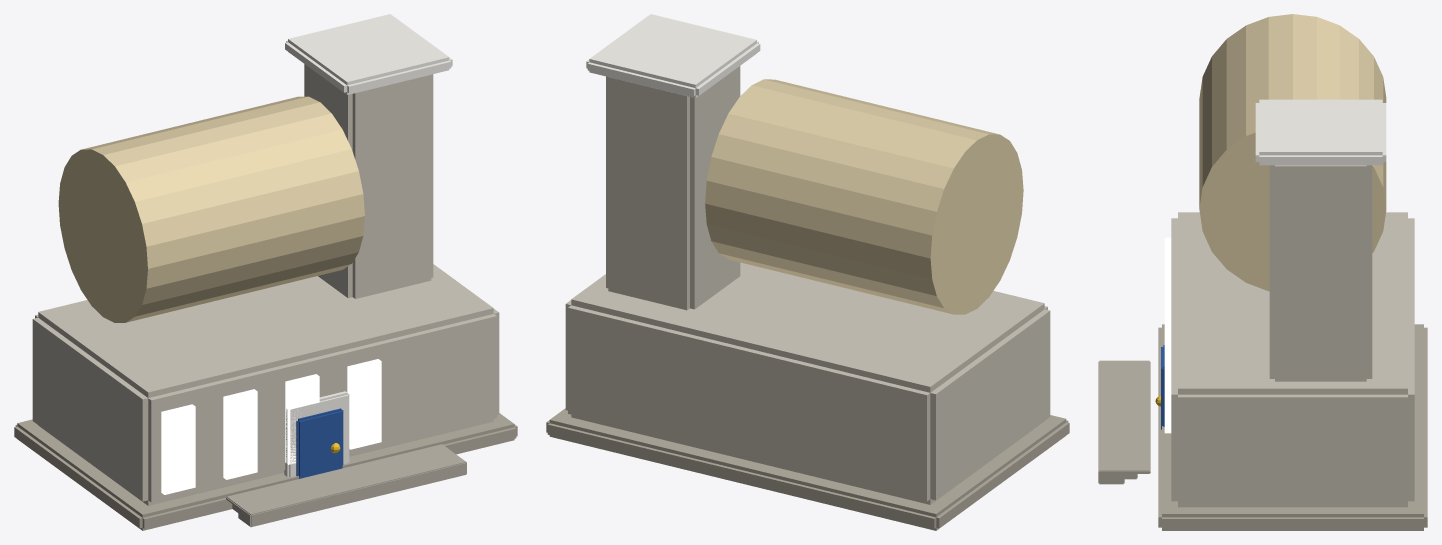
The model's file is assembly.glb.
3 renders of one model, left to right at view 1: azimuth 30°, elevation 25°; view 2: azimuth 150°, elevation 25°; view 3: azimuth 270°, elevation 25°, orthographic. The views are drawn at different scales.
Parts seen in each view (by area): view 1: assembly; view 2: assembly; view 3: assembly.
Part boxes in pixels (<box>): assembly: <box>14,14,517,530</box>; assembly: <box>546,14,1069,530</box>; assembly: <box>1098,14,1427,530</box>.
Bounding box in the file's own units: 2.44 × 2.18 × 1.76.
